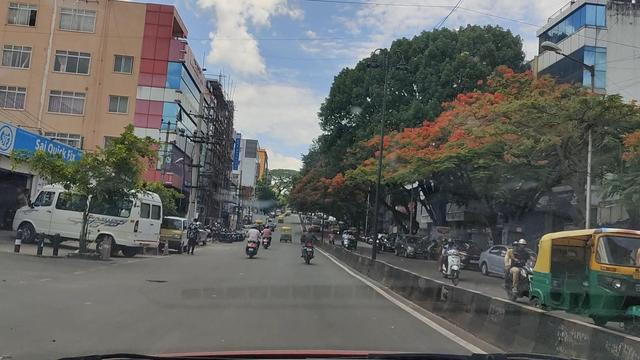LMV: (296, 225, 321, 267), (239, 224, 266, 261)
